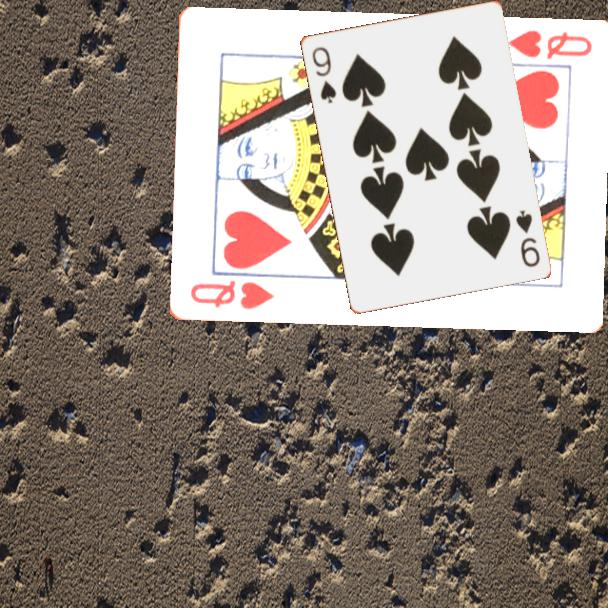h12: (503, 27, 595, 63), (186, 277, 276, 313)
s09: (512, 206, 543, 270), (308, 43, 339, 106)
